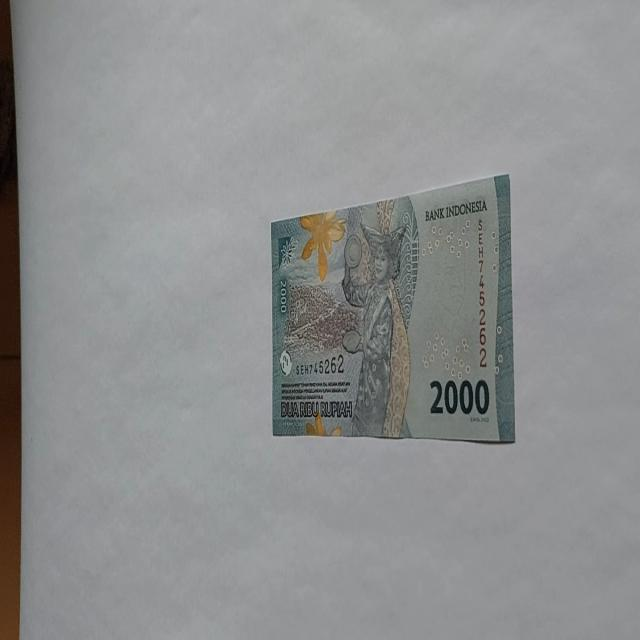dua ribu rupiah: (270, 172, 515, 444), (340, 213, 414, 438)
